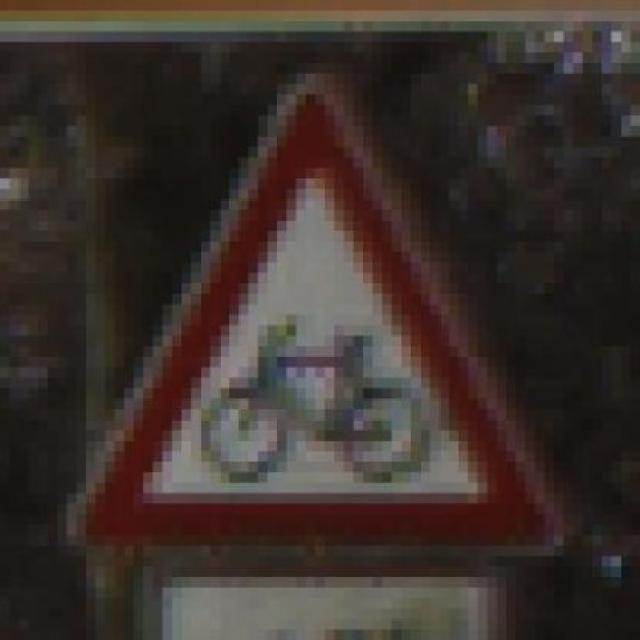CYCLE ROUTE AHEAD WARNING: (48, 74, 574, 588)
